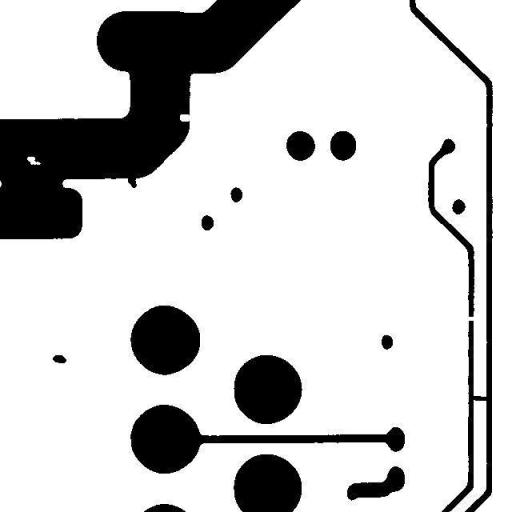copper: (47, 350, 71, 368)
mousebite: (174, 108, 196, 127)
open: (460, 310, 481, 326)
pin-hole: (21, 150, 47, 172)
short: (465, 390, 493, 406)
spur: (122, 170, 142, 193)
